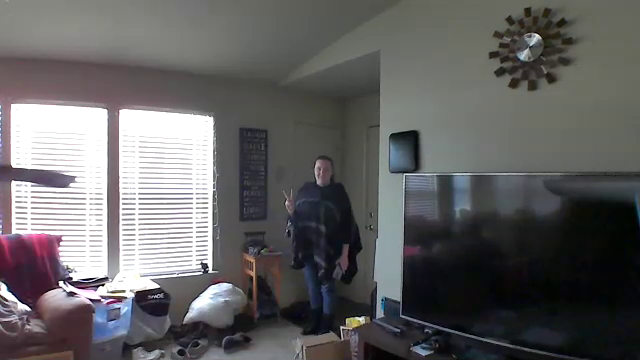peace: (278, 185, 302, 215)
